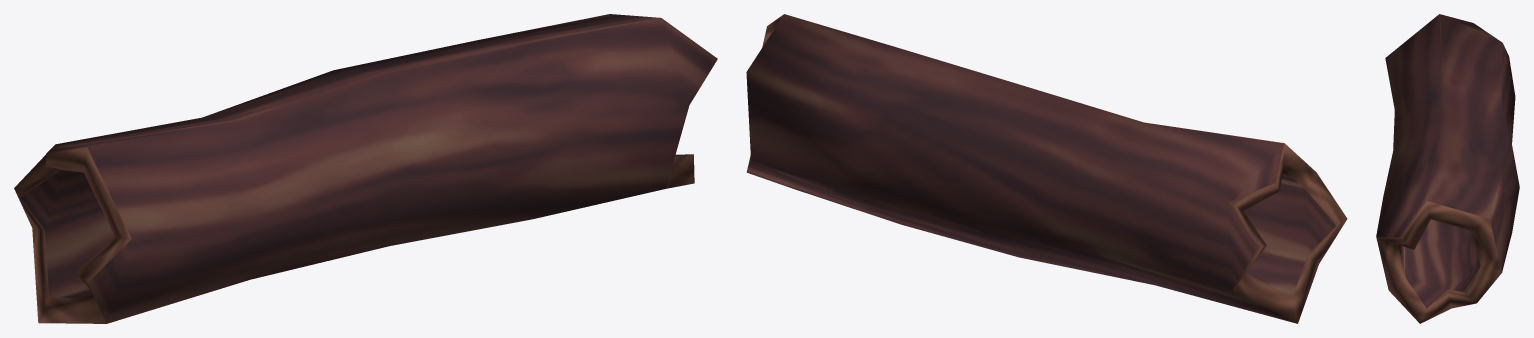
File: log1.glb
3 views of the same model, side by side, from view 1: azimuth 30°, elevation 25°; view 2: azimuth 150°, elevation 25°; view 3: azimuth 270°, elevation 25° (orthographic). The views are drawn at different scales.
Visible parts, largest first — view 1: log1; view 2: log1; view 3: log1.
Part boxes in pixels (left/top/right/bottom): log1: left=14, top=14, right=717, bottom=323; log1: left=746, top=14, right=1347, bottom=323; log1: left=1376, top=14, right=1519, bottom=323.
Size of the model in its own units: 14.42 by 3.9 by 4.18.
Materials: 1 (1 with a texture image).
